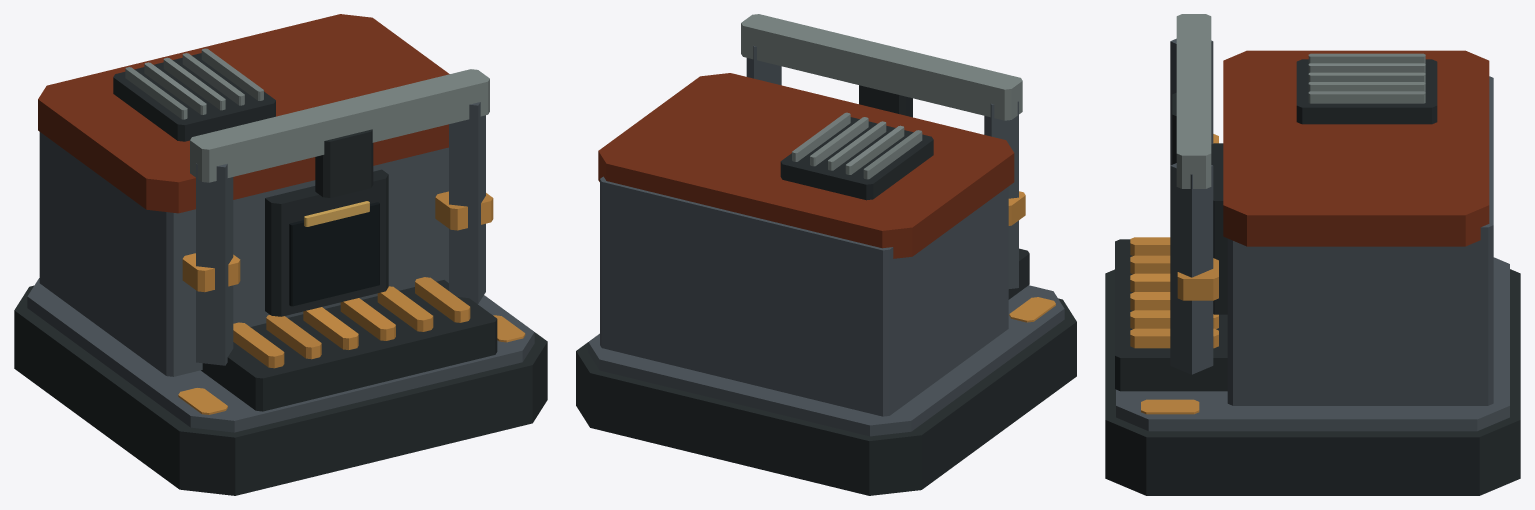
File: production_line.glb
3 renders of one model, left to right at view 1: azimuth 30°, elevation 25°; view 2: azimuth 150°, elevation 25°; view 3: azimuth 270°, elevation 25°, orthographic. The views are drawn at different scales.
Parts seen in each view (by area): view 1: production_line; view 2: production_line; view 3: production_line.
Boxes of the visible parts, x1=… form: production_line: x1=14, y1=14, x2=547, y2=495; production_line: x1=576, y1=14, x2=1076, y2=495; production_line: x1=1105, y1=14, x2=1520, y2=495.
Bounding box in the file's own units: 1.98 × 1.63 × 1.92.
